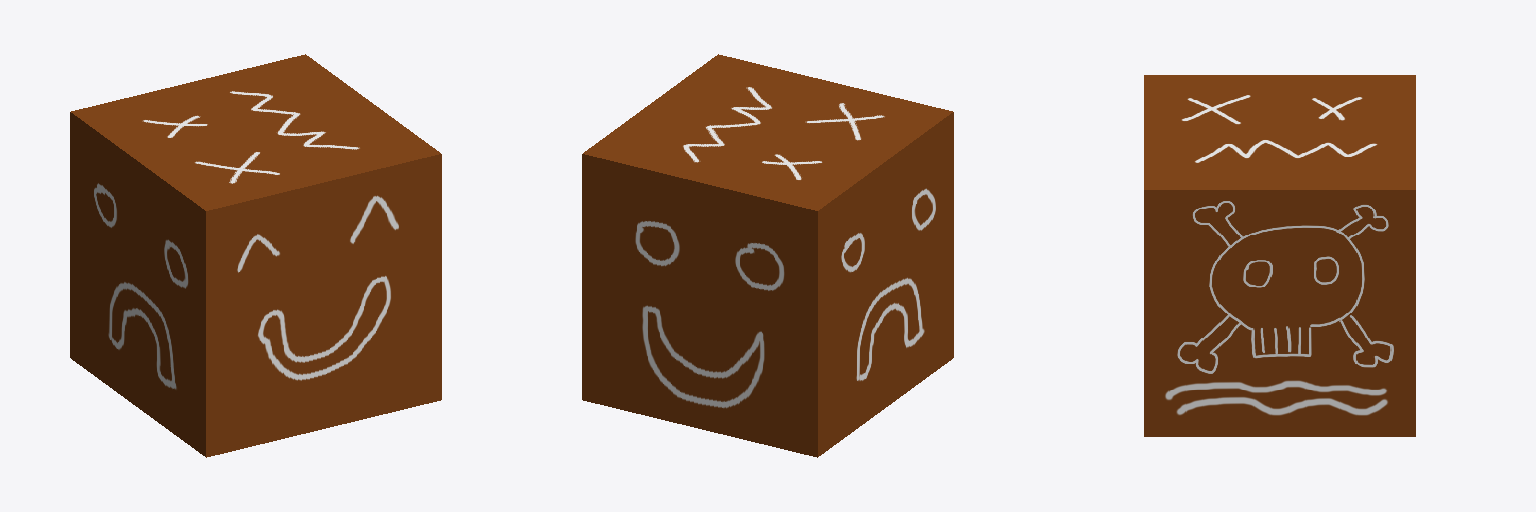
3 renders of one model, left to right at view 1: azimuth 30°, elevation 25°; view 2: azimuth 150°, elevation 25°; view 3: azimuth 270°, elevation 25°, orthographic.
Visible parts, largest first — view 1: Cube_Cube.001; view 2: Cube_Cube.001; view 3: Cube_Cube.001.
Boxes of the visible parts, <box> form: Cube_Cube.001: <box>70,54,441,457</box>; Cube_Cube.001: <box>582,54,953,457</box>; Cube_Cube.001: <box>1144,75,1415,436</box>.
Size of the model in its own units: 2 by 2 by 2.
Materials: 1 (1 with a texture image).